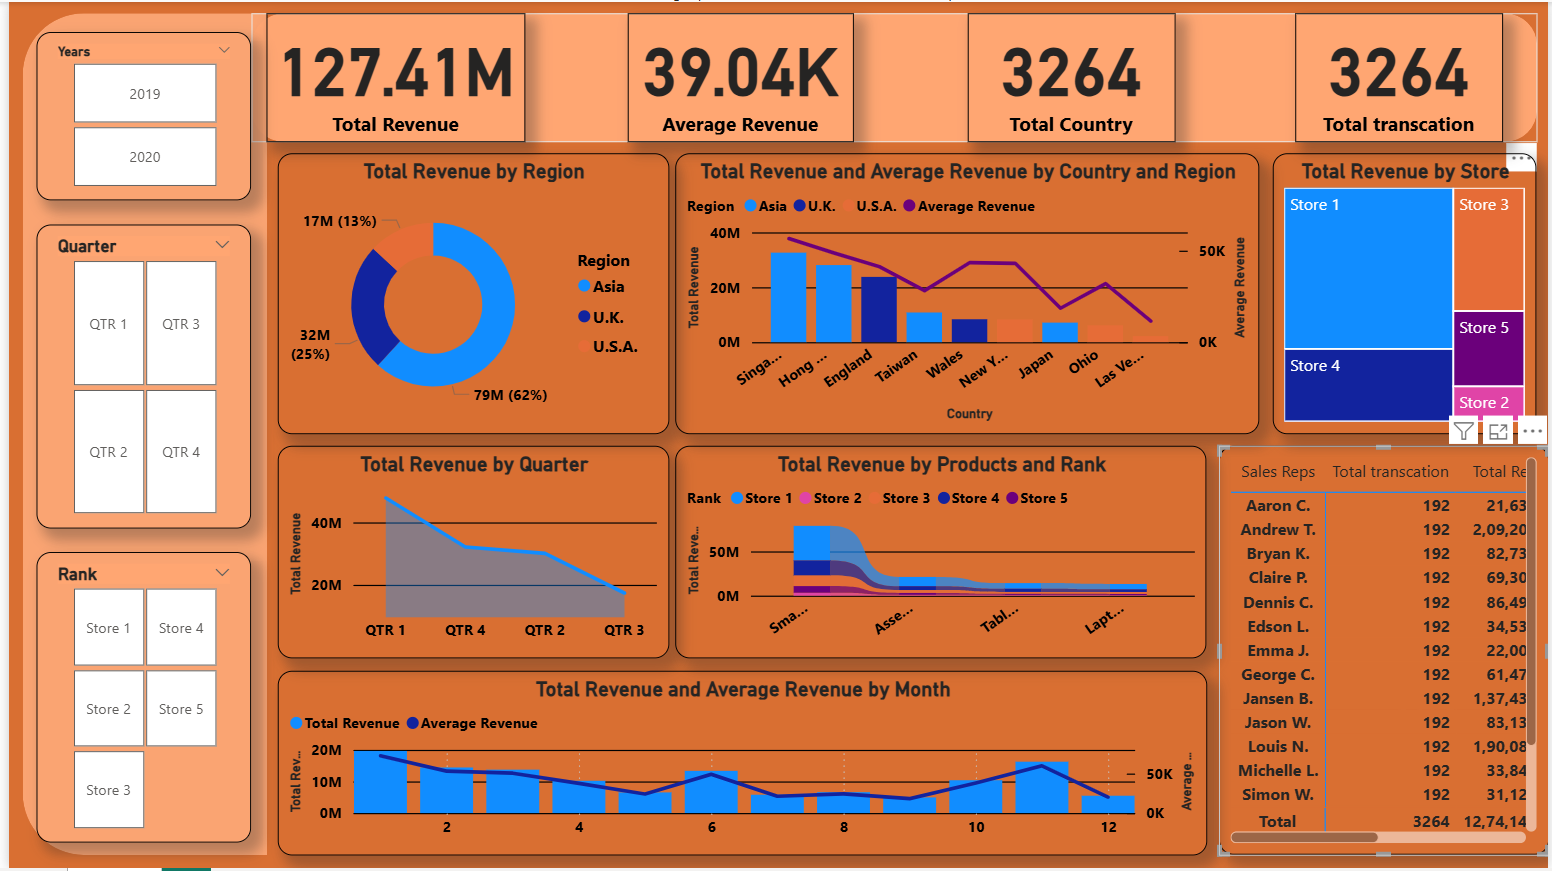

This screenshot's page, from the dashboard's own definition file:
{"tool":"powerbi","page":{"name":"Page 1","canvas":[1280,720],"ordinal":0},"visuals":[{"type":"shape","box":[11,9.6,203.1,699.8],"z":0},{"type":"shape","box":[201.7,9.6,1069,107],"z":1000},{"type":"card","fields":{"Values":["measures (2).Total Revenue"]},"box":[214.1,9.6,215.4,107],"z":2000},{"type":"card","fields":{"Values":["measures (2).Average Revenue"]},"box":[514.6,9.6,188,107],"z":3000},{"type":"card","fields":{"Values":["measures (2).Total Country"]},"box":[797.3,9.6,172.9,107],"z":4000},{"type":"card","fields":{"Values":["measures (2).Total transcation"]},"box":[1069,9.6,172.9,107],"z":5000},{"type":"donutChart","fields":{"Y":["measures (2).Total Revenue"],"Category":["Sheet1.Region"]},"box":[223.7,126.2,325.2,233.3],"z":6000},{"type":"lineStackedColumnComboChart","fields":{"Category":["Sheet1.Country"],"Y":["measures (2).Total Revenue"],"Y2":["measures (2).Average Revenue"],"Series":["Sheet1.Region"]},"box":[554.4,126.2,485.8,233.3],"z":7000},{"type":"treemap","title":"Total Revenue by Store","fields":{"Group":["Sheet1.Rank"],"Values":["measures (2).Total Revenue"]},"box":[1051.1,126.2,219.6,233.3],"z":8000},{"type":"areaChart","fields":{"Y":["measures (2).Total Revenue"],"Category":["Sheet1.Quarter"]},"box":[223.7,369.1,325.2,177],"z":9000},{"type":"ribbonChart","fields":{"Category":["Sheet1.Products"],"Y":["measures (2).Total Revenue"],"Series":["Sheet1.Rank"]},"box":[554.4,369.1,441.9,177],"z":10000},{"type":"pivotTable","fields":{"Rows":["Sheet1.Sales Reps"],"Values":["measures (2).Total transcation","measures (2).Total Revenue","measures (2).Average Revenue"]},"box":[1005.8,369.1,274.4,340.3],"z":11000},{"type":"lineStackedColumnComboChart","fields":{"Y":["measures (2).Total Revenue"],"Y2":["measures (2).Average Revenue"],"Category":["Sheet1.Month"]},"box":[223.7,555.7,772.6,153.7],"z":12000},{"type":"slicer","fields":{"Values":["Sheet1.Years"]},"box":[23.3,24.7,178.4,140],"z":13000},{"type":"slicer","fields":{"Values":["Sheet1.Quarter"]},"box":[23.3,185.2,178.4,252.5],"z":14000},{"type":"slicer","fields":{"Values":["Sheet1.Rank"]},"box":[23.3,456.9,178.4,241.5],"z":15000}]}

Visuals, with their boxes in screenshot pixels (x1, y1, x2, y2), scaled from the page's 1280x720 canvas onto the 1552x871 screenshot:
shape: 13,12,260,858
shape: 245,12,1541,141
card - measures (2).Total Revenue: 260,12,521,141
card - measures (2).Average Revenue: 624,12,852,141
card - measures (2).Total Country: 967,12,1176,141
card - measures (2).Total transcation: 1296,12,1506,141
donutChart - measures (2).Total Revenue x Sheet1.Region: 271,153,666,435
lineStackedColumnComboChart - Sheet1.Country x measures (2).Total Revenue: 672,153,1261,435
"Total Revenue by Store" treemap: 1274,153,1541,435
areaChart - measures (2).Total Revenue x Sheet1.Quarter: 271,447,666,661
ribbonChart - Sheet1.Products x measures (2).Total Revenue: 672,447,1208,661
pivotTable - Sheet1.Sales Reps x measures (2).Total transcation: 1220,447,1551,858
lineStackedColumnComboChart - measures (2).Total Revenue x measures (2).Average Revenue: 271,672,1208,858
slicer - Sheet1.Years: 28,30,245,199
slicer - Sheet1.Quarter: 28,224,245,529
slicer - Sheet1.Rank: 28,553,245,845
